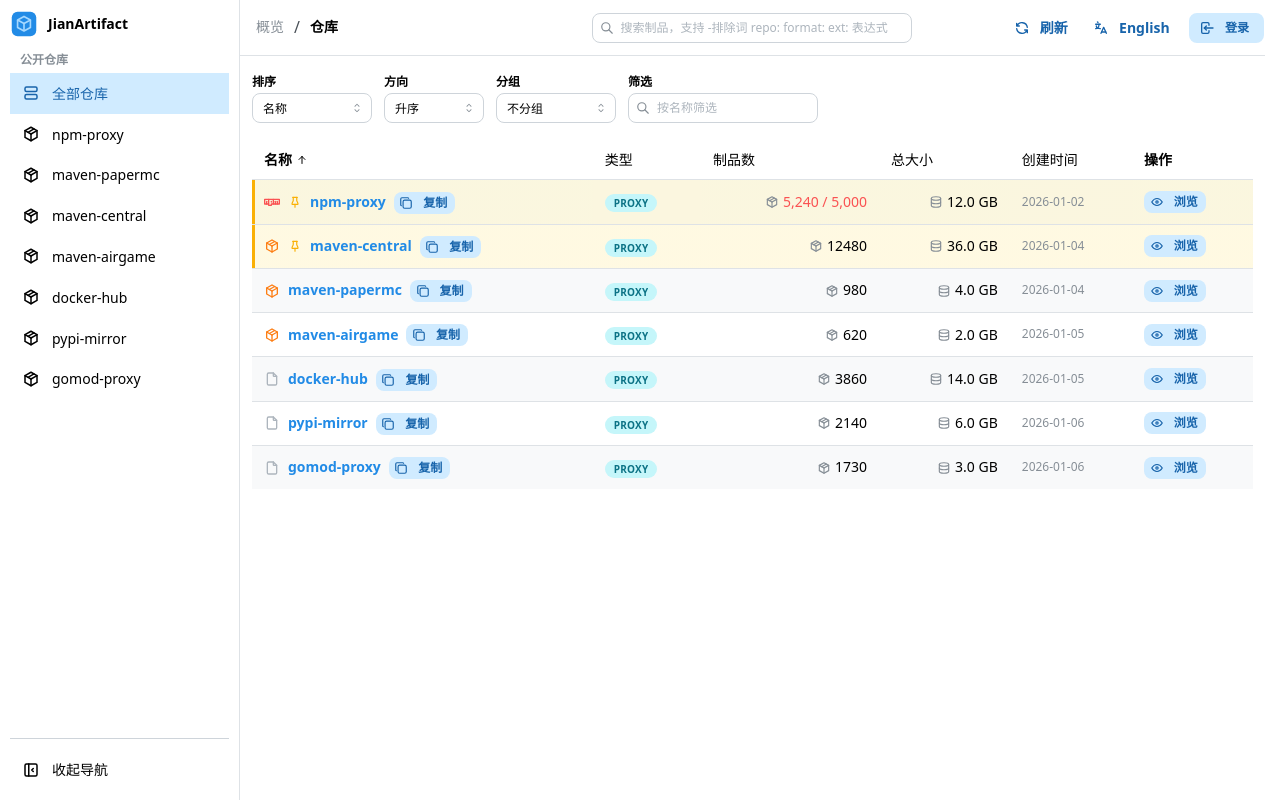
页眉语言切换 › 点击后在两种语言间切换，界面文案、<html lang> 与缓存三者同步
Expected: the button "刷新" is shown, [1007, 14, 1077, 40]
Click the button with aria-label "切换语言". click: (1133, 28)
box: [1087, 14, 1179, 40]
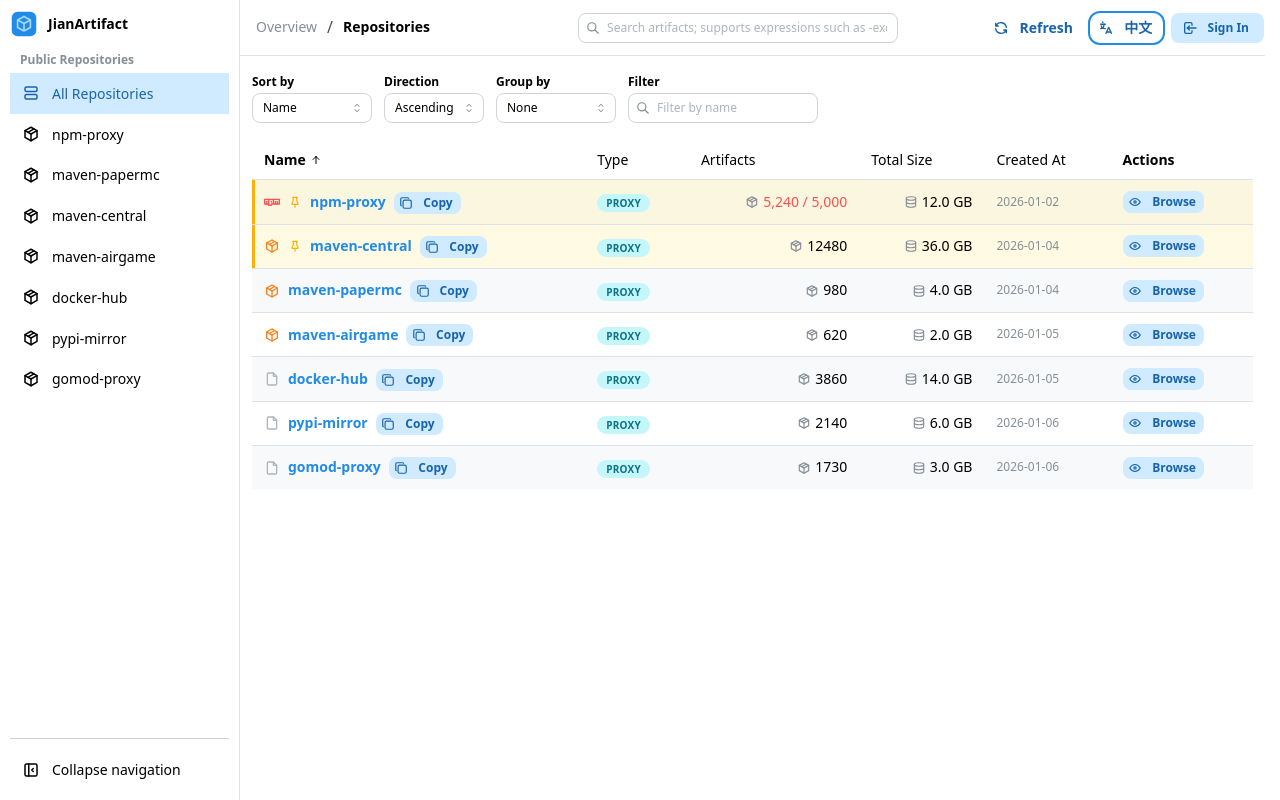
Expected: the button "Refresh" is shown, [987, 14, 1082, 40]
Click the button with aria-label "Switch language". click: (1127, 28)
box: [1092, 14, 1161, 40]
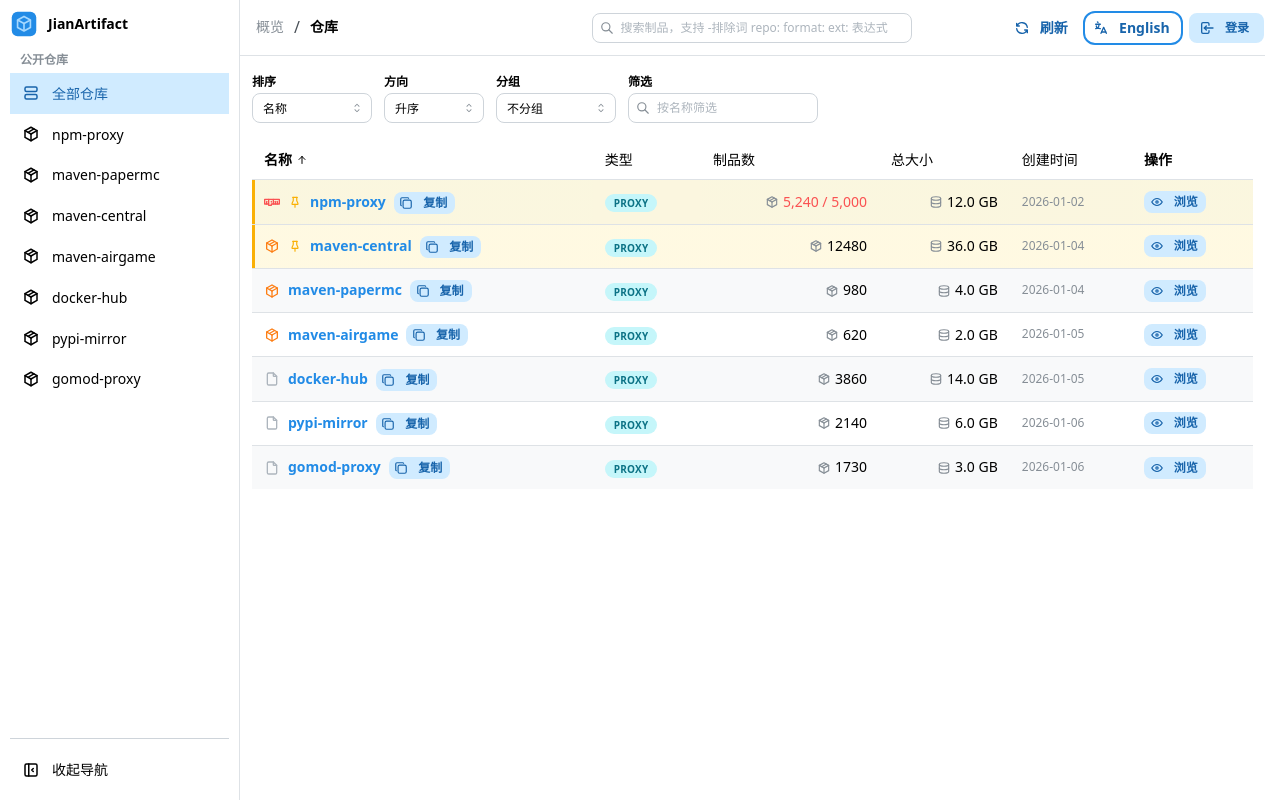
Expected: the button "刷新" is shown, [1007, 14, 1077, 40]
